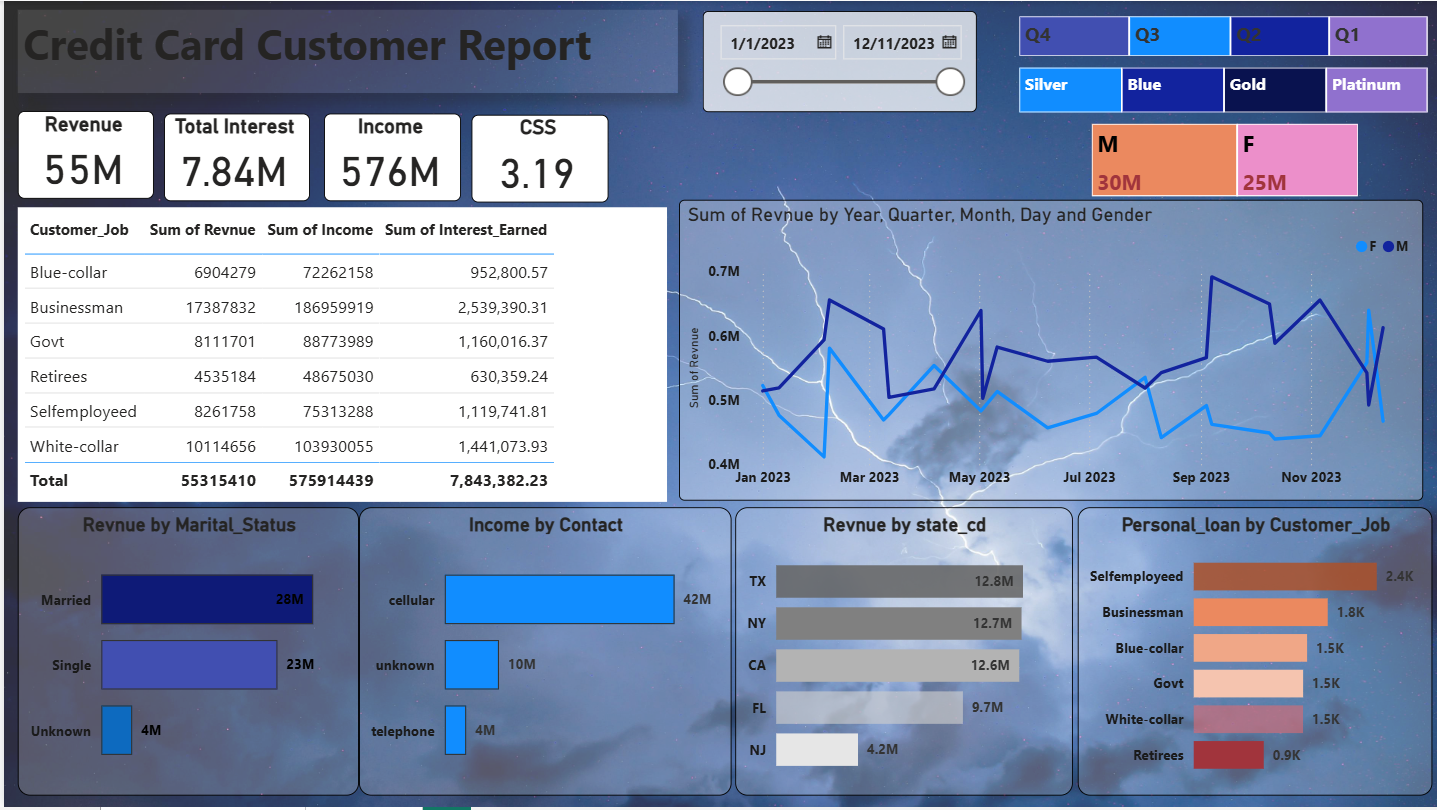

The dashboard page shown, as its layout file describes it:
{"tool":"powerbi","page":{"name":"Customer","canvas":[1280,720],"ordinal":1},"visuals":[{"type":"textbox","box":[12.8,8.1,589.5,74.4],"z":0},{"type":"slicer","fields":{"Values":["credit_card.Week_Start_Date"]},"box":[623.8,8.8,245,90],"z":1000},{"type":"treemap","fields":{"Group":["credit_card.Qtr"],"Values":["Avg(credit_card.Client_Num)"]},"box":[902.3,9.3,374.4,45.3],"z":3000},{"type":"treemap","fields":{"Group":["credit_card.Card_Category"],"Values":["Avg(credit_card.Client_Num)"]},"box":[902.3,54.7,374.4,50],"z":4000},{"type":"card","title":"Revenue","fields":{"Values":["Sum(credit_card.Revnue)"]},"box":[12.5,98.8,121.2,78.8],"z":5000},{"type":"card","title":"Total Interest","fields":{"Values":["Sum(credit_card.Interest_Earned)"]},"box":[142.5,100,130,78.8],"z":6000},{"type":"card","title":"Income","fields":{"Values":["Sum(customer.Income)"]},"box":[286.2,100,122.5,78.8],"z":7000},{"type":"card","title":"CSS","fields":{"Values":["Avg(customer.Cust_Satisfaction_Score)"]},"box":[417.5,101.2,122.5,78.8],"z":8000},{"type":"tableEx","fields":{"Values":["customer.Customer_Job","Sum(credit_card.Revnue)","Sum(customer.Income)","Sum(credit_card.Interest_Earned)"]},"box":[12.5,183.8,580,263],"z":9000},{"type":"clusteredBarChart","title":" Revnue by Marital_Status","fields":{"Y":["Sum(credit_card.Revnue)"],"Category":["customer.Marital_Status"]},"box":[12.5,452,305,257.5],"z":10000},{"type":"lineChart","fields":{"Y":["Sum(credit_card.Revnue)"],"Category":["credit_card.Week_Start_Date.Variation.Date Hierarchy.Year","credit_card.Week_Start_Date.Variation.Date Hierarchy.Quarter","credit_card.Week_Start_Date.Variation.Date Hierarchy.Month","credit_card.Week_Start_Date.Variation.Date Hierarchy.Day"],"Series":["customer.Gender"]},"box":[602.5,177.5,665,268.8],"z":11000},{"type":"clusteredBarChart","title":"Income by Contact","fields":{"Category":["customer.contact"],"Y":["Sum(credit_card.Revnue)"]},"box":[317.5,452.5,332.5,257.5],"z":12000},{"type":"treemap","fields":{"Group":["customer.Gender"],"Values":["Sum(credit_card.Revnue)"]},"box":[967.4,104.7,247.7,74.4],"z":13000},{"type":"clusteredBarChart","title":"Revnue by state_cd","fields":{"Y":["Sum(credit_card.Revnue)"],"Category":["customer.state_cd"]},"box":[653.8,452.5,301.2,257.5],"z":14000},{"type":"clusteredBarChart","title":" Personal_loan by Customer_Job","fields":{"Y":["CountNonNull(customer.Personal_loan)"],"Category":["customer.Customer_Job"]},"box":[959,452.5,317,257.5],"z":15000}]}

Visuals, with their boxes in screenshot pixels (x1, y1, x2, y2), scaled from the page's 1280x720 canvas onto the 1437x810 screenshot:
textbox: [left=14, top=9, right=676, bottom=93]
slicer - credit_card.Week_Start_Date: [left=700, top=10, right=975, bottom=111]
treemap - credit_card.Qtr x Avg(credit_card.Client_Num): [left=1013, top=10, right=1433, bottom=61]
treemap - credit_card.Card_Category x Avg(credit_card.Client_Num): [left=1013, top=62, right=1433, bottom=118]
"Revenue" card: [left=14, top=111, right=150, bottom=200]
"Total Interest" card: [left=160, top=112, right=306, bottom=201]
"Income" card: [left=321, top=112, right=459, bottom=201]
"CSS" card: [left=469, top=114, right=606, bottom=202]
tableEx - customer.Customer_Job x Sum(credit_card.Revnue): [left=14, top=207, right=665, bottom=503]
" Revnue by Marital_Status" clusteredBarChart: [left=14, top=508, right=356, bottom=798]
lineChart - Sum(credit_card.Revnue) x credit_card.Week_Start_Date.Variation.Date Hierarchy.Year: [left=676, top=200, right=1423, bottom=502]
"Income by Contact" clusteredBarChart: [left=356, top=509, right=730, bottom=799]
treemap - customer.Gender x Sum(credit_card.Revnue): [left=1086, top=118, right=1364, bottom=201]
"Revnue by state_cd" clusteredBarChart: [left=734, top=509, right=1072, bottom=799]
" Personal_loan by Customer_Job" clusteredBarChart: [left=1077, top=509, right=1433, bottom=799]
